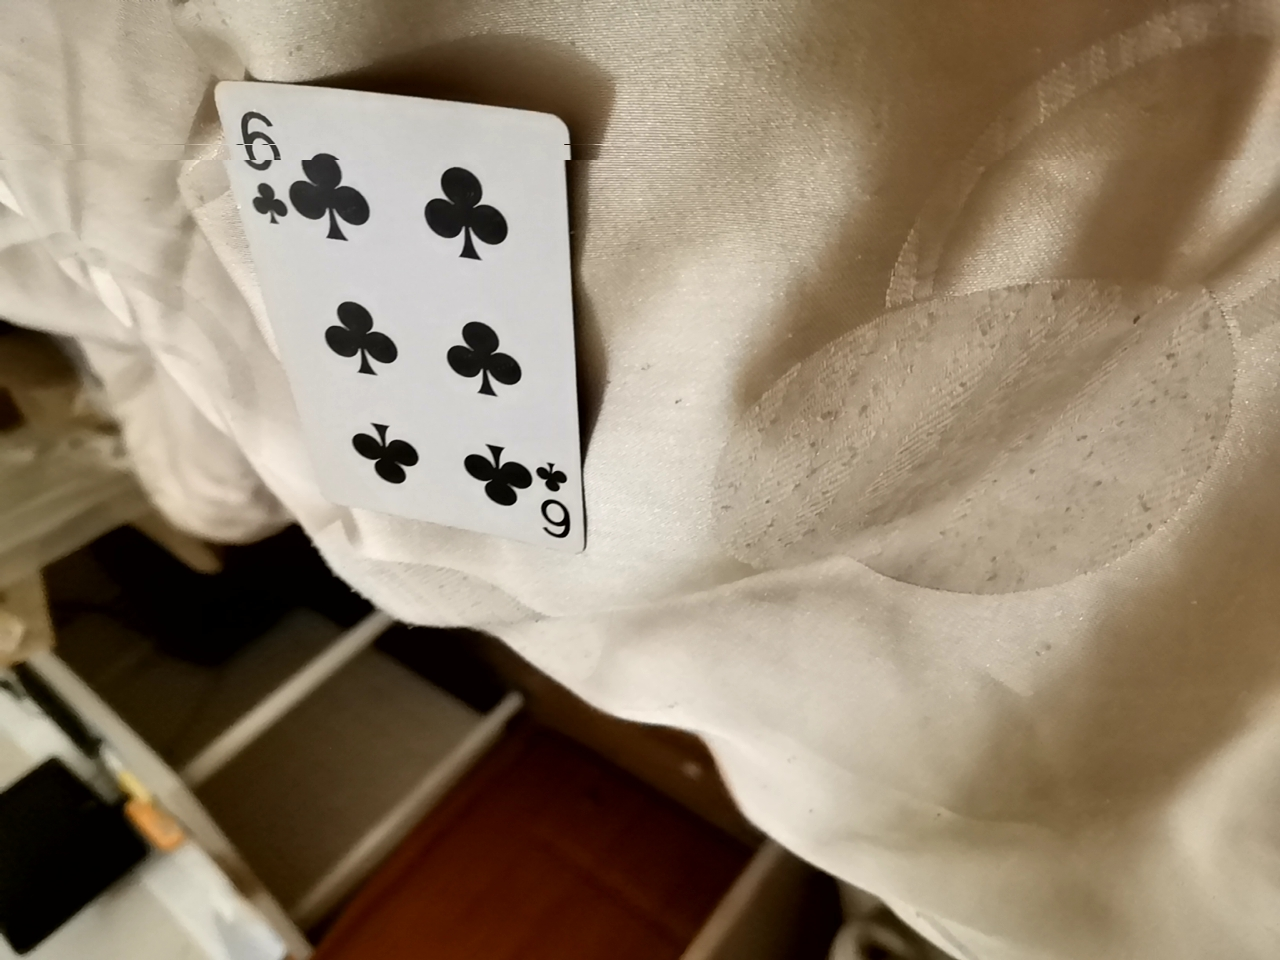mh 6: (230, 77, 593, 561)
